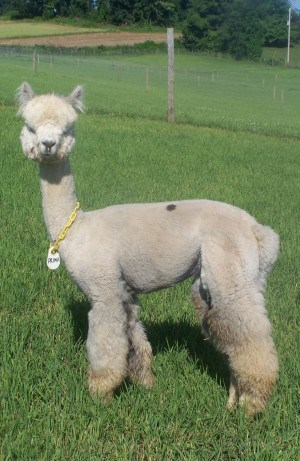alpaca: (15, 79, 281, 411)
